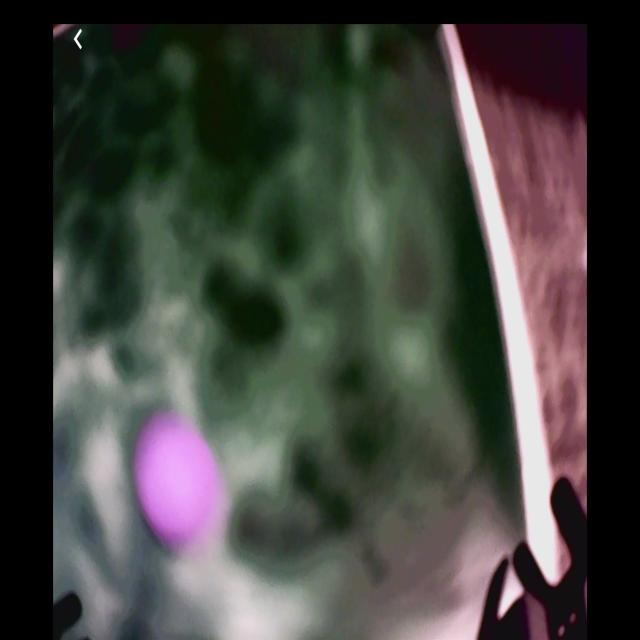ball: (139, 416, 217, 541)
